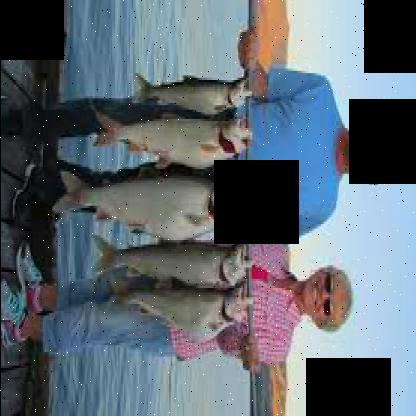fish: (54, 168, 252, 240), (93, 110, 253, 169), (92, 228, 252, 287), (113, 272, 253, 338), (134, 68, 250, 112)
